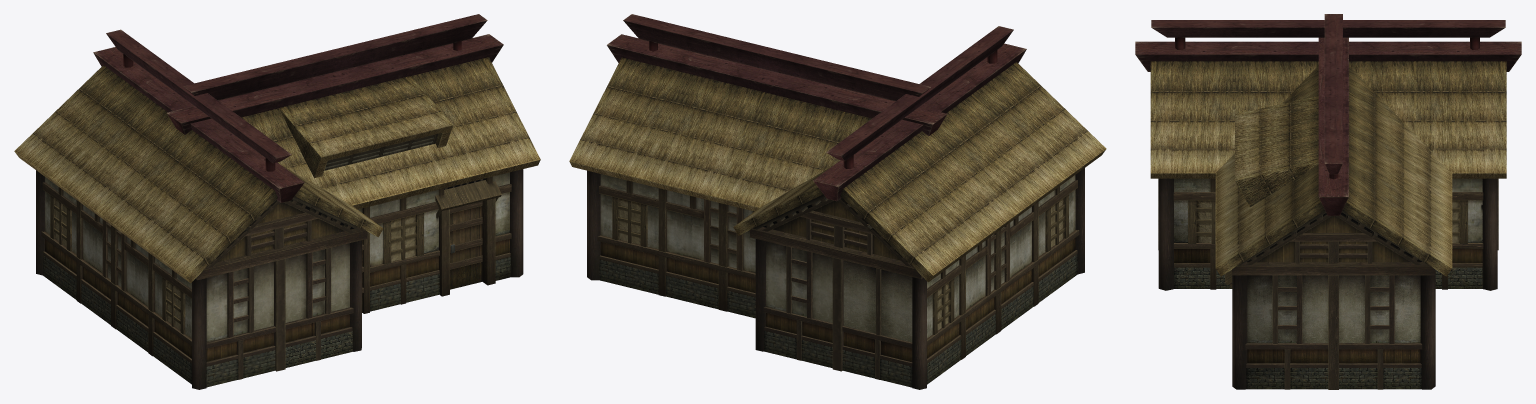
Rendered from fortms_build_normal_01.glb.
The picture shows the model from 3 angles, left to right: view 1: azimuth 30°, elevation 25°; view 2: azimuth 150°, elevation 25°; view 3: azimuth 270°, elevation 25°; orthographic projection. The views are drawn at different scales.
Parts seen in each view (by area): view 1: fortMS_build_normal_01; view 2: fortMS_build_normal_01; view 3: fortMS_build_normal_01.
Part boxes in pixels (bbox=[...]): fortMS_build_normal_01: bbox=[14, 14, 540, 389]; fortMS_build_normal_01: bbox=[569, 14, 1106, 389]; fortMS_build_normal_01: bbox=[1135, 14, 1521, 389].
Size of the model in its own units: 18.29 by 9.71 by 14.79.
3 materials, 3 textured.
